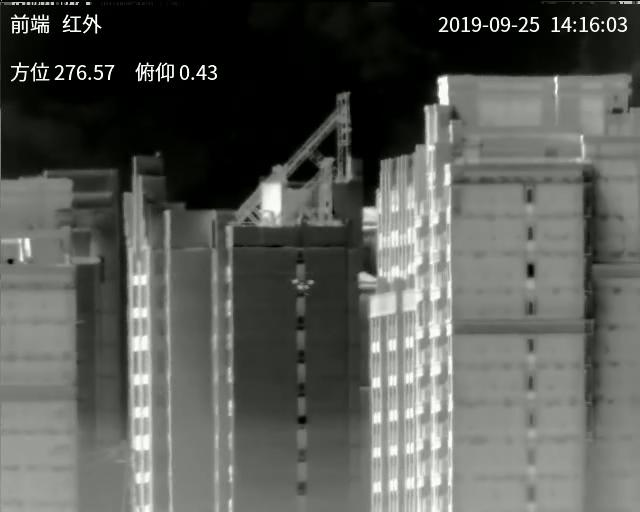uav: (292, 270, 316, 298)
